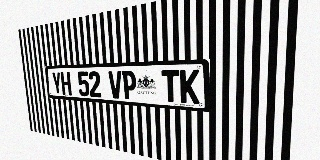2: (88, 71, 101, 97)
5: (77, 71, 90, 97)
H: (60, 72, 72, 95)
K: (180, 69, 199, 104)
P: (122, 71, 137, 100)
T: (161, 70, 180, 103)
V: (108, 71, 123, 99)
Y: (51, 72, 62, 95)
